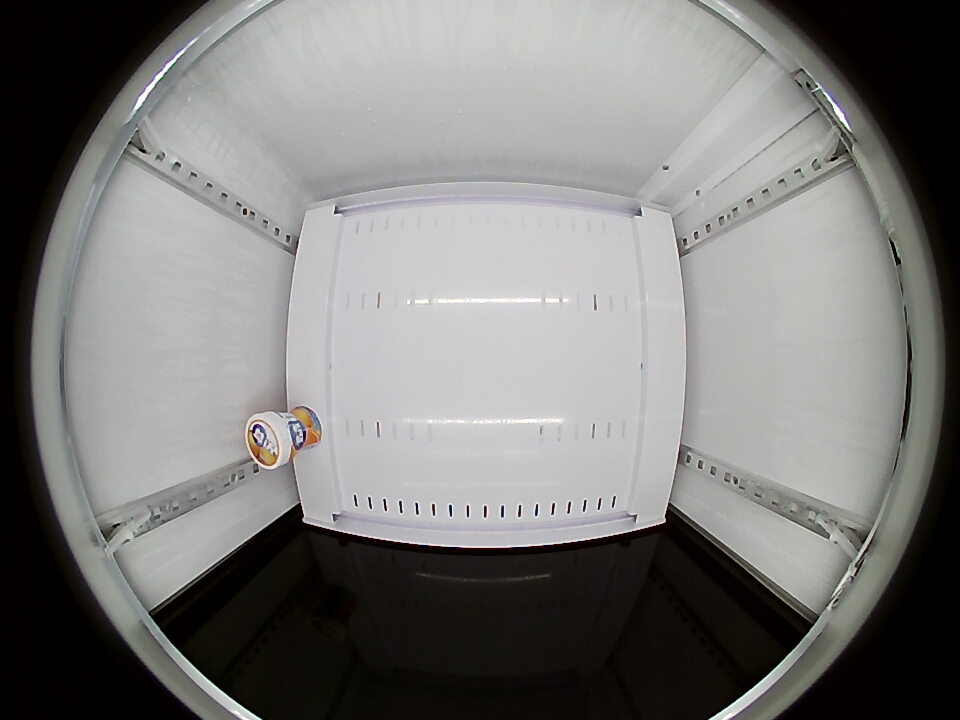yida: (246, 411, 296, 470)
